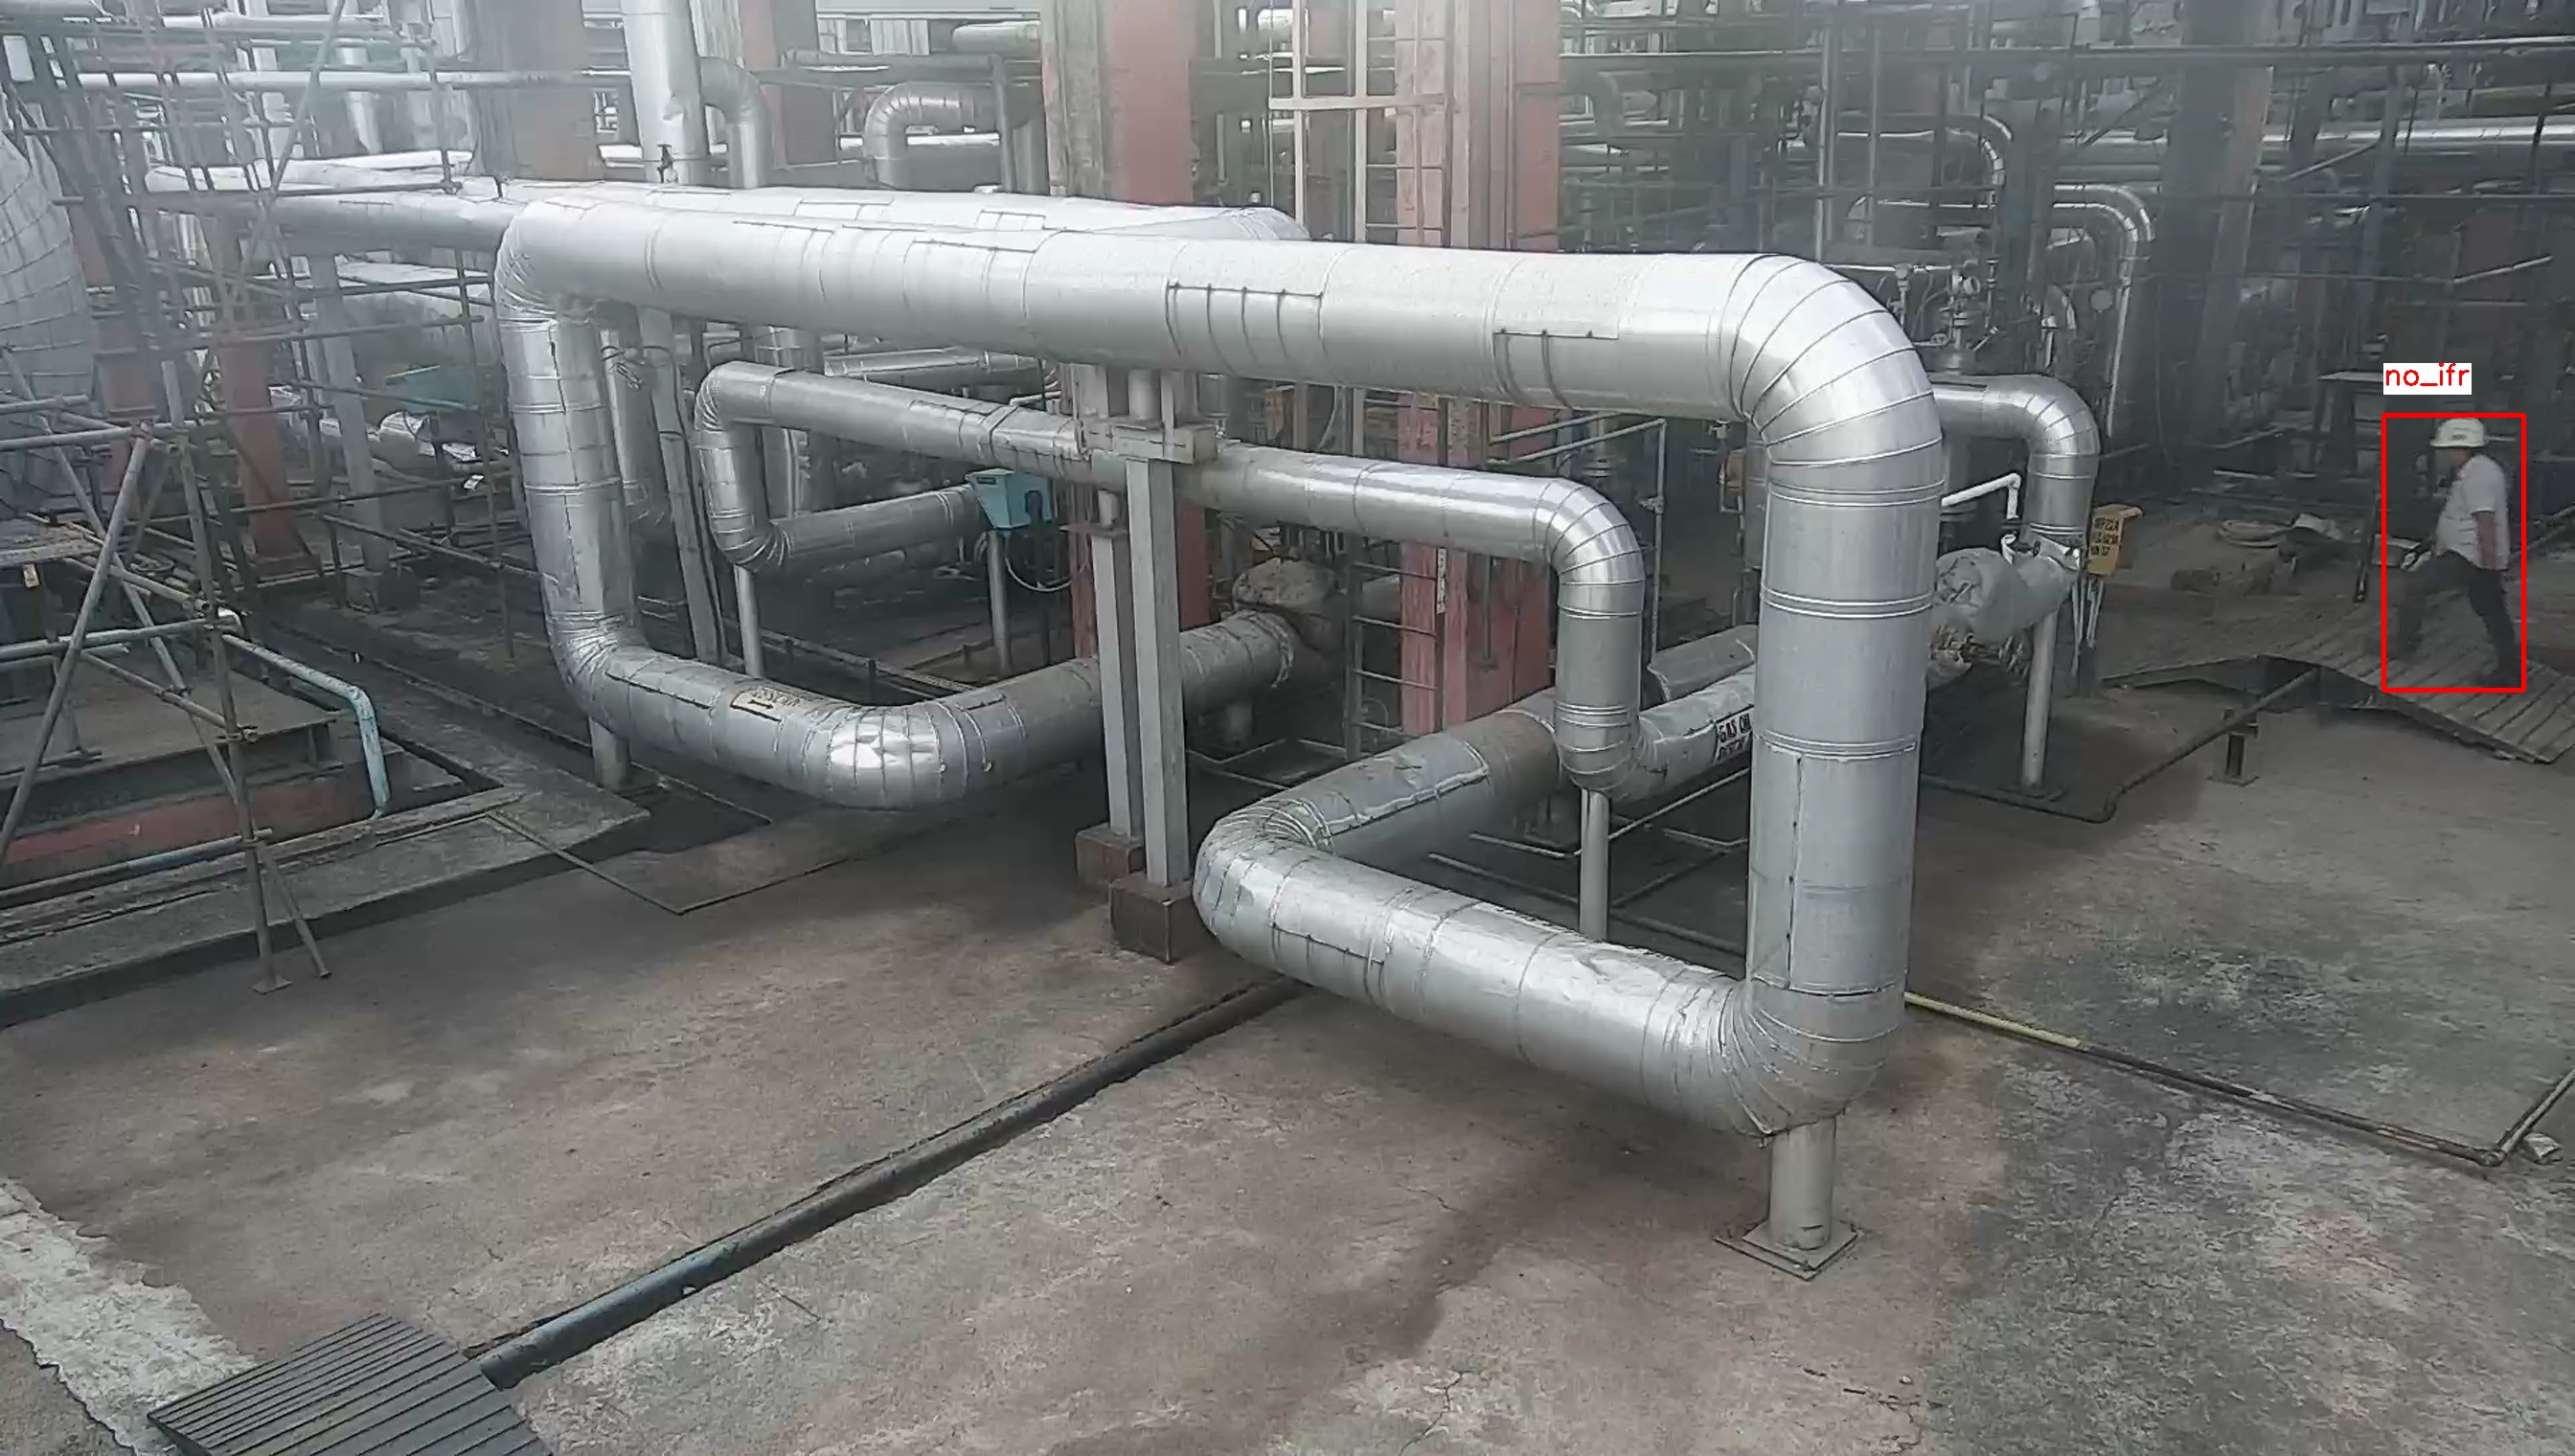Helmets: (2421, 419, 2497, 453)
